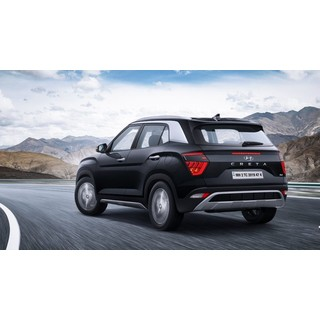car: (73, 113, 287, 232)
